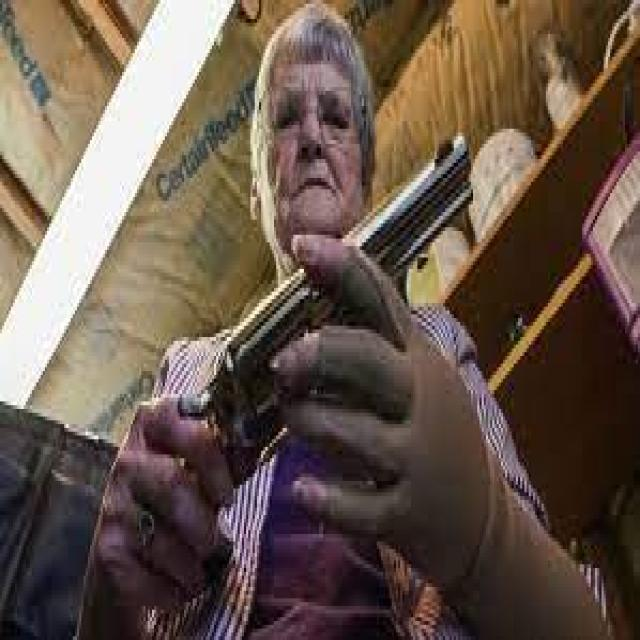weapons: (142, 123, 494, 489)
